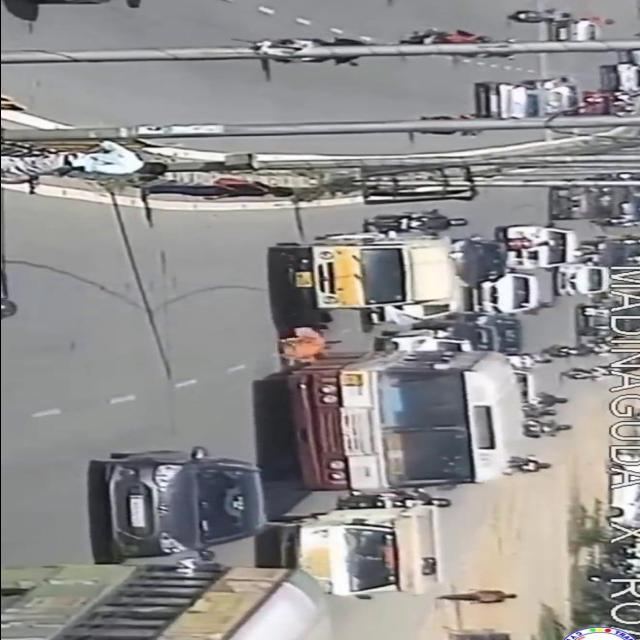accident: (242, 231, 524, 497)
non_accident: (0, 445, 450, 640), (468, 182, 640, 314), (461, 51, 640, 121)
